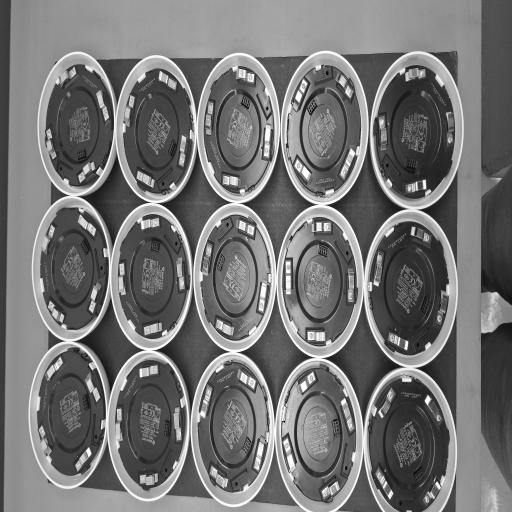yayli: (290, 76, 310, 114), (421, 475, 442, 508), (292, 153, 312, 186), (338, 147, 356, 183), (377, 386, 396, 420), (281, 433, 297, 473), (252, 435, 268, 474), (296, 368, 318, 396), (375, 466, 393, 500), (209, 462, 230, 491), (425, 394, 444, 426), (334, 70, 353, 102), (236, 366, 258, 392), (340, 396, 355, 434), (320, 475, 341, 502), (199, 384, 214, 420), (436, 291, 449, 329), (96, 89, 110, 123), (256, 281, 270, 315), (46, 354, 64, 380), (74, 446, 92, 472), (78, 212, 96, 238), (41, 224, 56, 255), (86, 370, 100, 403), (38, 425, 52, 457), (410, 226, 432, 246), (388, 332, 409, 352), (158, 70, 177, 92), (77, 162, 96, 184), (88, 282, 101, 314), (48, 300, 64, 326), (124, 94, 136, 128), (201, 242, 213, 276), (58, 66, 76, 88), (373, 251, 384, 287), (45, 128, 57, 161), (177, 134, 188, 168), (262, 124, 272, 160), (215, 318, 233, 338), (405, 180, 427, 196), (284, 257, 293, 296), (206, 100, 216, 135), (136, 170, 154, 189), (379, 114, 388, 152), (446, 112, 455, 148), (236, 67, 255, 84), (174, 407, 183, 442), (405, 67, 426, 82), (222, 173, 240, 190), (140, 216, 160, 231), (115, 408, 124, 441), (118, 262, 127, 295), (347, 268, 355, 304), (139, 472, 158, 487), (312, 220, 332, 234), (176, 258, 184, 291), (306, 330, 326, 343), (144, 322, 162, 336), (139, 365, 158, 378), (237, 220, 246, 232)
